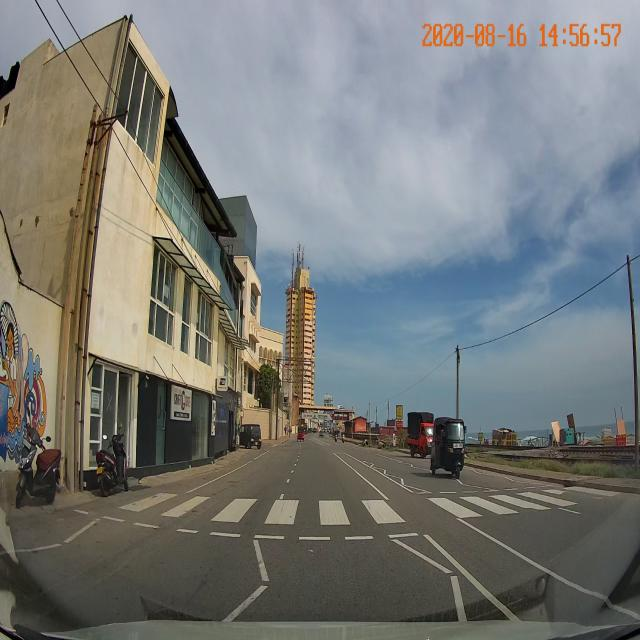Crosswalk: (65, 482, 629, 542)
